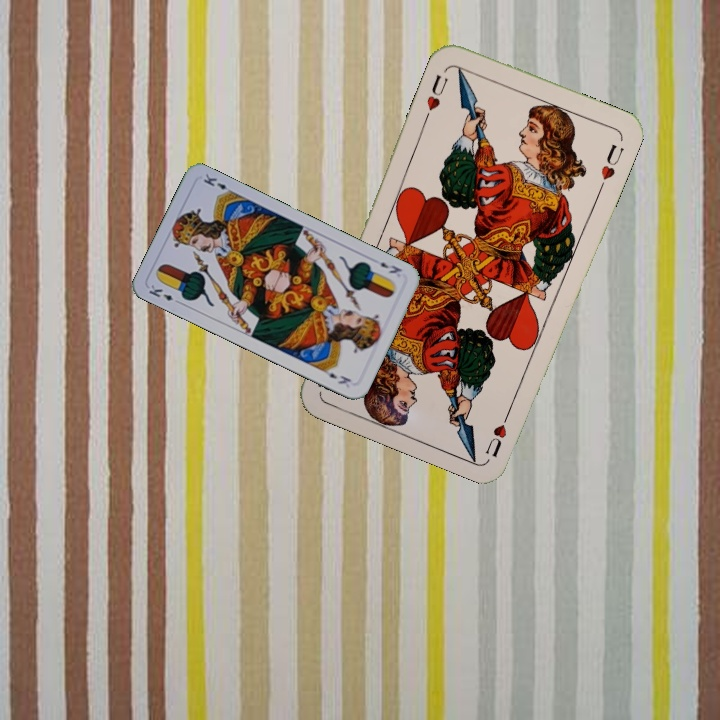EK: (145, 281, 184, 307), (376, 258, 405, 276)
HU: (481, 403, 514, 460), (422, 70, 451, 113)
